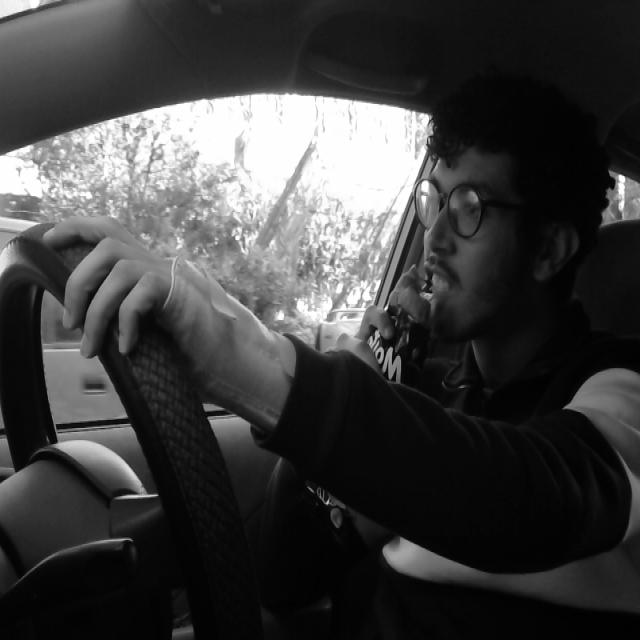eating: (296, 260, 442, 550)
